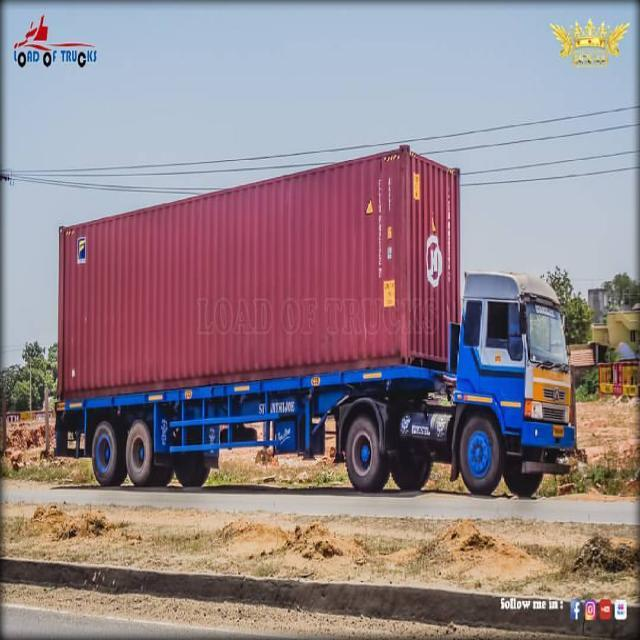Truck: (49, 145, 588, 504)
